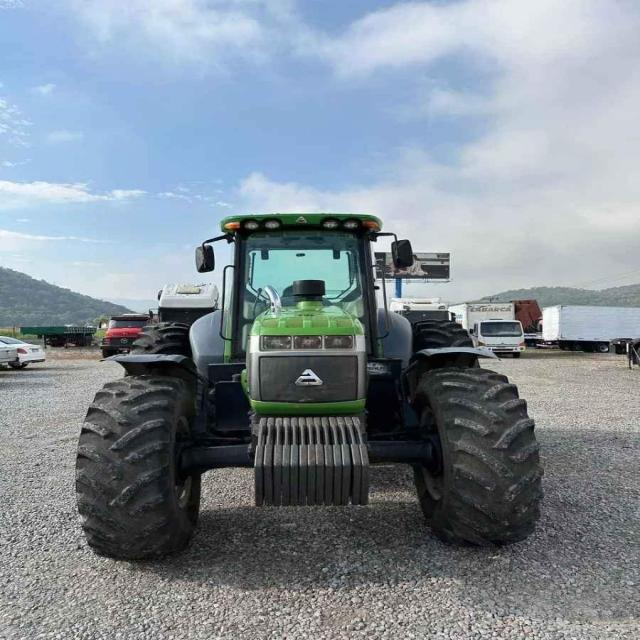Tratores - v5 YOLO V8L 2024-11-13: (70, 206, 548, 562)
